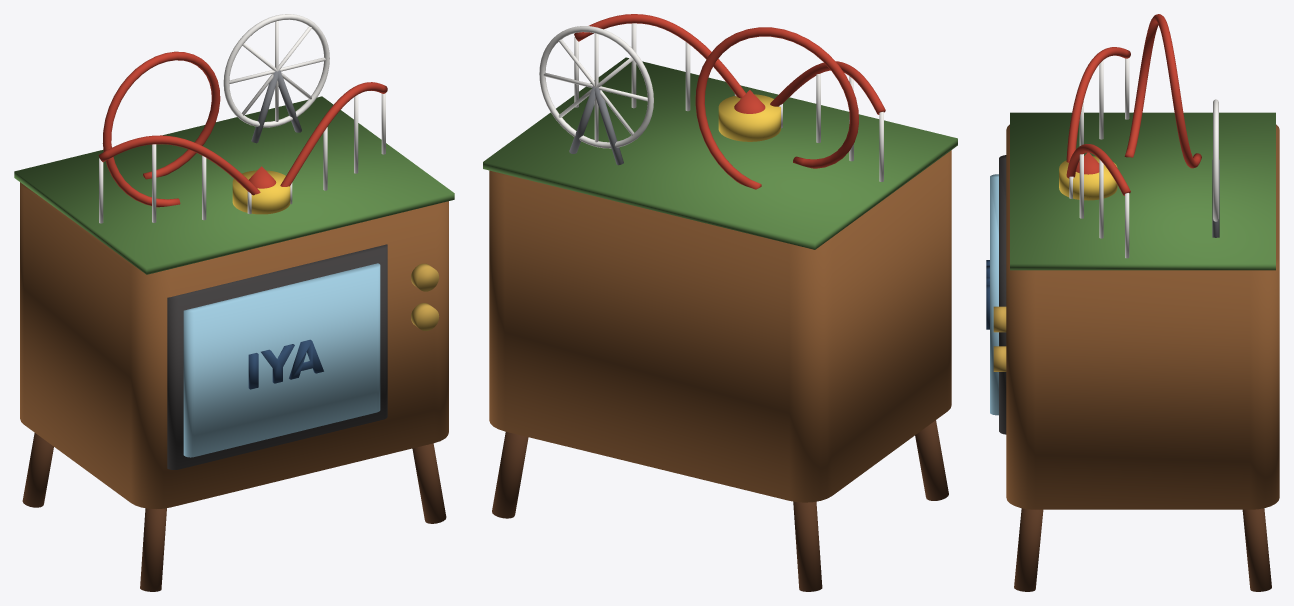
The model's file is tv-screen.glb.
3 renders of one model, left to right at view 1: azimuth 30°, elevation 25°; view 2: azimuth 150°, elevation 25°; view 3: azimuth 270°, elevation 25°, orthographic. The views are drawn at different scales.
Visible parts, largest first — view 1: part0, part10, part2, part1, part11, part13, part6, part3, part29, part4, part26; view 2: part0, part10, part11, part13, part6, part29, part26; view 3: part0, part10, part11, part6, part13, part2, part1, part29, part4.
Part boxes in pixels (x1,y1,x2,y2): part0: [20, 182, 448, 508]; part10: [14, 96, 454, 274]; part2: [183, 263, 380, 457]; part1: [167, 244, 387, 469]; part11: [98, 51, 387, 207]; part13: [99, 14, 385, 223]; part6: [22, 433, 446, 591]; part3: [248, 339, 323, 389]; part29: [232, 170, 290, 214]; part4: [411, 263, 439, 330]; part26: [251, 70, 301, 143]; part0: [489, 150, 951, 502]; part10: [483, 57, 957, 249]; part11: [574, 14, 885, 189]; part13: [539, 23, 883, 181]; part6: [492, 420, 948, 591]; part29: [718, 94, 780, 141]; part26: [569, 86, 623, 165]; part0: [1006, 124, 1279, 509]; part10: [1010, 112, 1275, 270]; part11: [1066, 14, 1201, 195]; part6: [1014, 508, 1271, 591]; part13: [1069, 58, 1218, 258]; part2: [990, 174, 998, 415]; part1: [999, 155, 1006, 434]; part29: [1059, 156, 1117, 200]; part4: [993, 306, 1006, 371].
Size of the model in its own units: 0.7062 by 1 by 0.5685.
